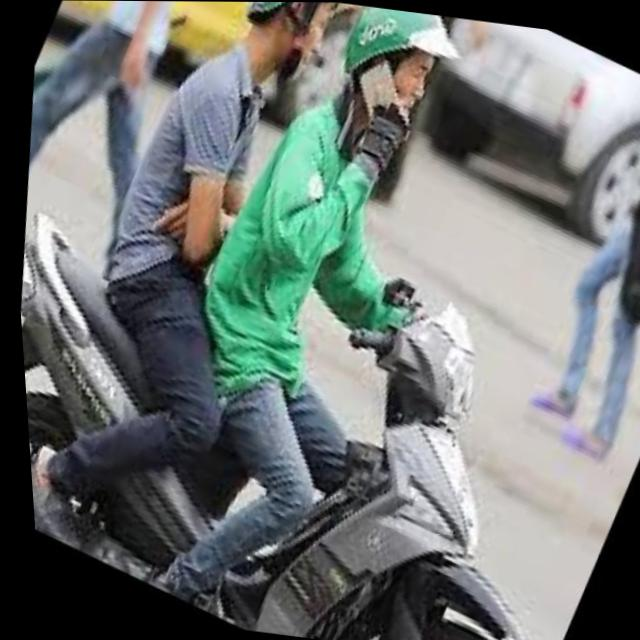USING_MOBILE: (245, 35, 436, 298)
